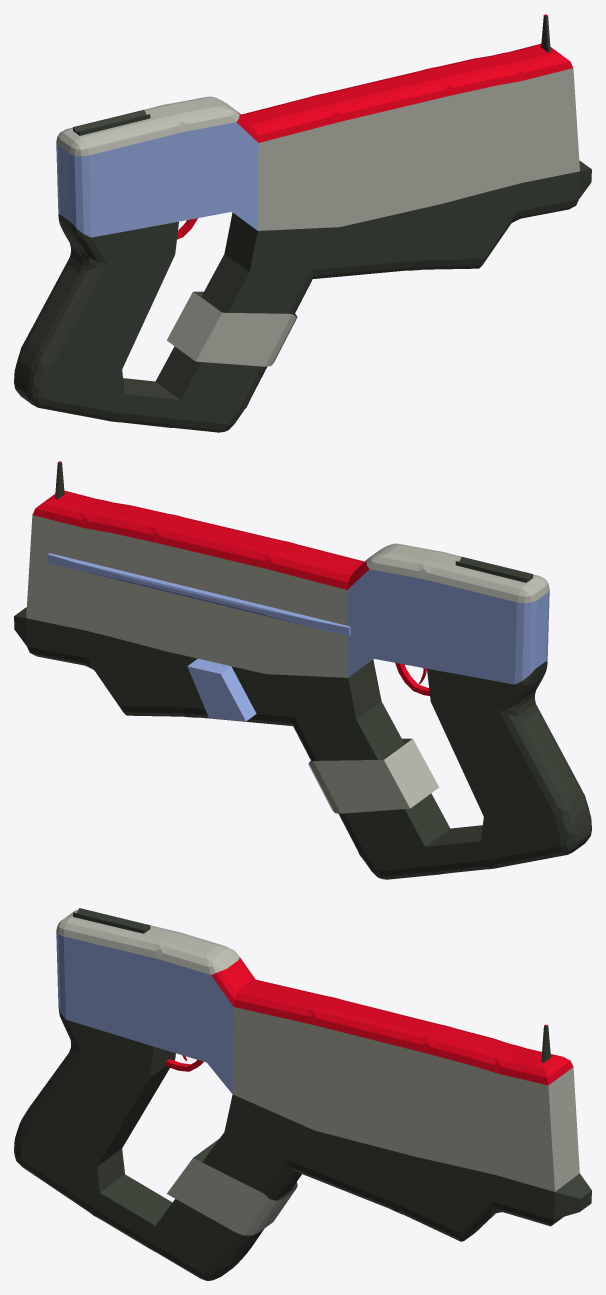
Rendered from Pistol2.fbx.
3 views of the same model, one above another, from view 1: azimuth 30°, elevation 25°; view 2: azimuth 150°, elevation 25°; view 3: azimuth 330°, elevation 25° (orthographic).
Visible parts, largest first — view 1: Cube.021; view 2: Cube.021; view 3: Cube.021.
Part boxes in pixels (box(x1,y1,x2,y2)): Cube.021: box(14, 14, 591, 432); Cube.021: box(14, 461, 591, 879); Cube.021: box(14, 908, 591, 1280).
Size of the model in its own units: 498 by 279 by 57.69.
